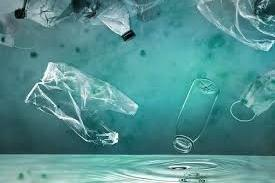Plastic: (168, 73, 222, 160), (9, 1, 96, 31), (94, 1, 137, 46)
Trash: (22, 60, 139, 157)
